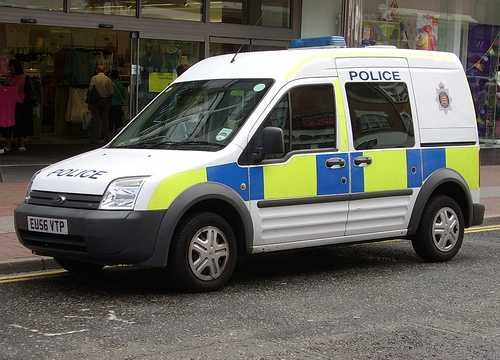Police Van: (23, 20, 472, 289)
